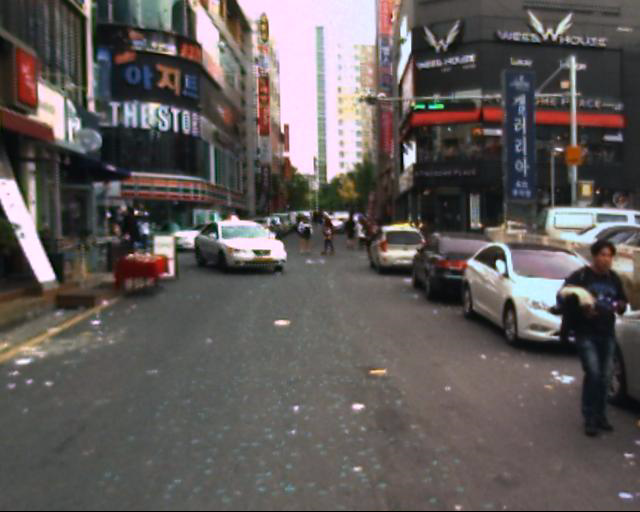person: (555, 225, 630, 452), (344, 207, 371, 259), (298, 208, 320, 265), (315, 211, 340, 260)
